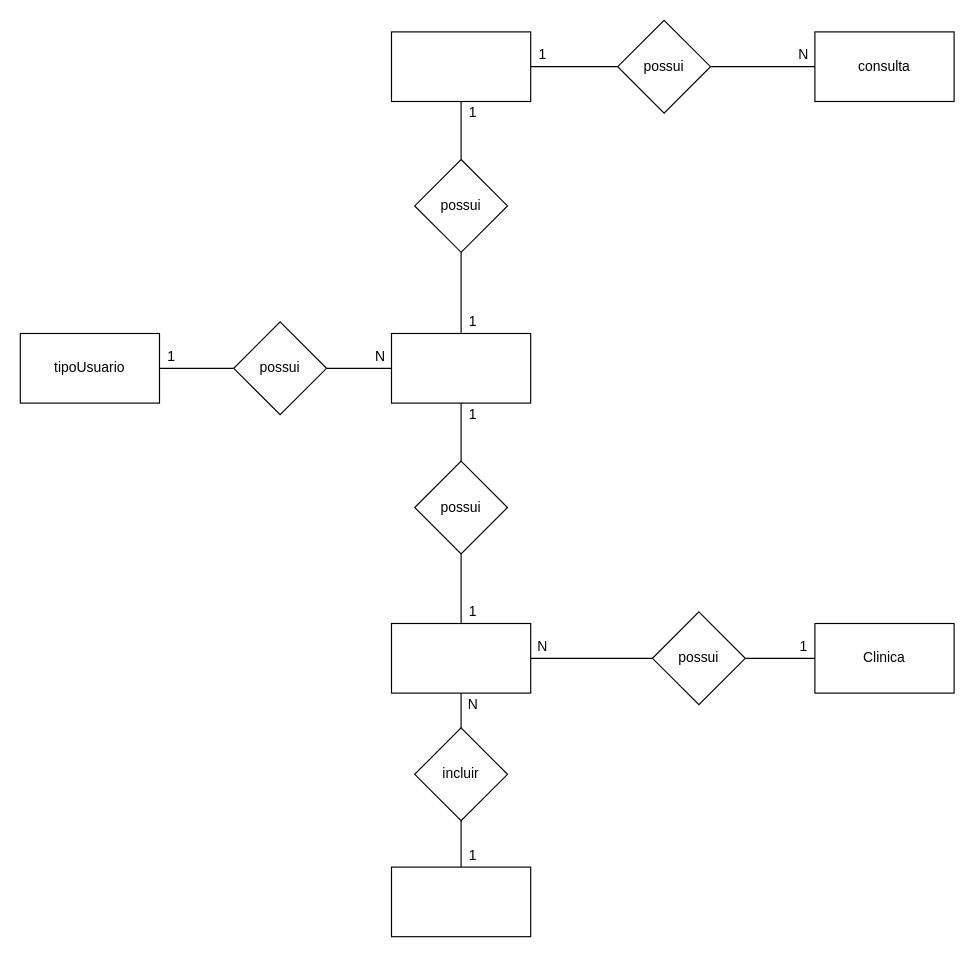
Image size: 974x957. Some labels were removed from this diagram. Here are the shapes that lost their labels. From the top down, the centre of each, then its label:
At (460,66): "prontuario".
At (460,367): "Usuario".
At (460,657): "medico".
At (460,901): "especialidade".
